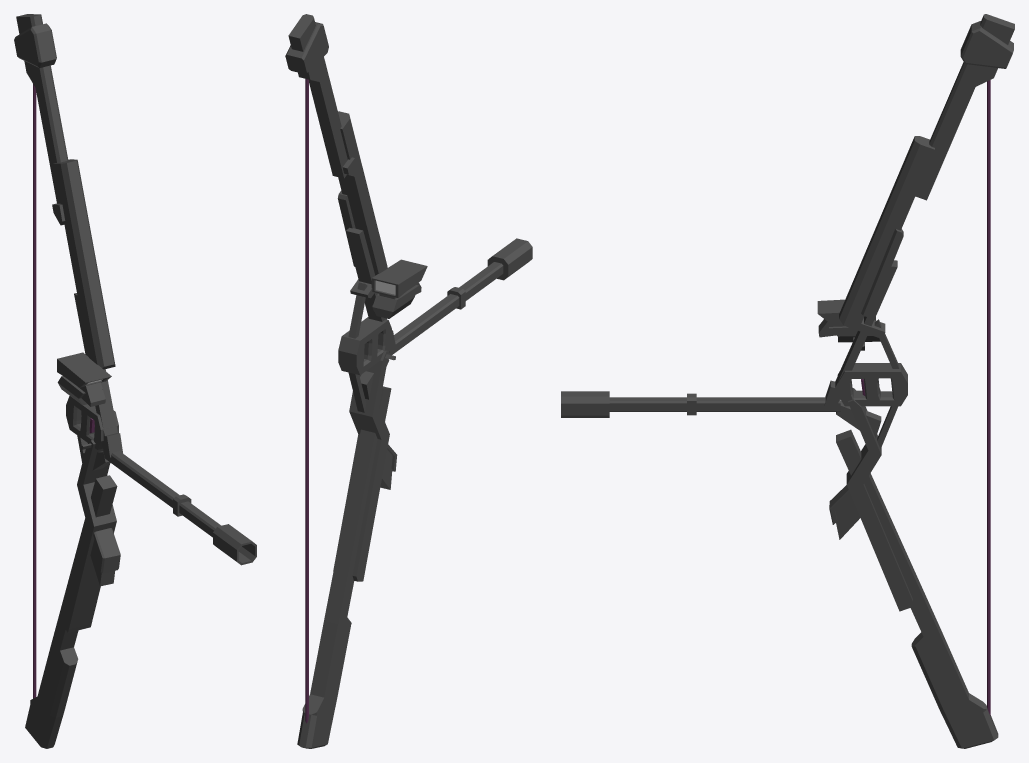
Rendered from ArmeMode2Exile.fbx.
The picture shows the model from 3 angles, left to right: view 1: azimuth 30°, elevation 25°; view 2: azimuth 150°, elevation 25°; view 3: azimuth 270°, elevation 25°; orthographic projection.
Visible parts, largest first — view 1: ArmeMode2; view 2: ArmeMode2; view 3: ArmeMode2.
Boxes of the visible parts, box(x1,y1,x2,y2) form: ArmeMode2: box(14, 14, 256, 748); ArmeMode2: box(285, 14, 532, 748); ArmeMode2: box(561, 14, 1014, 748).
Bounding box in the file's own units: 9.79 × 148 × 83.25.
